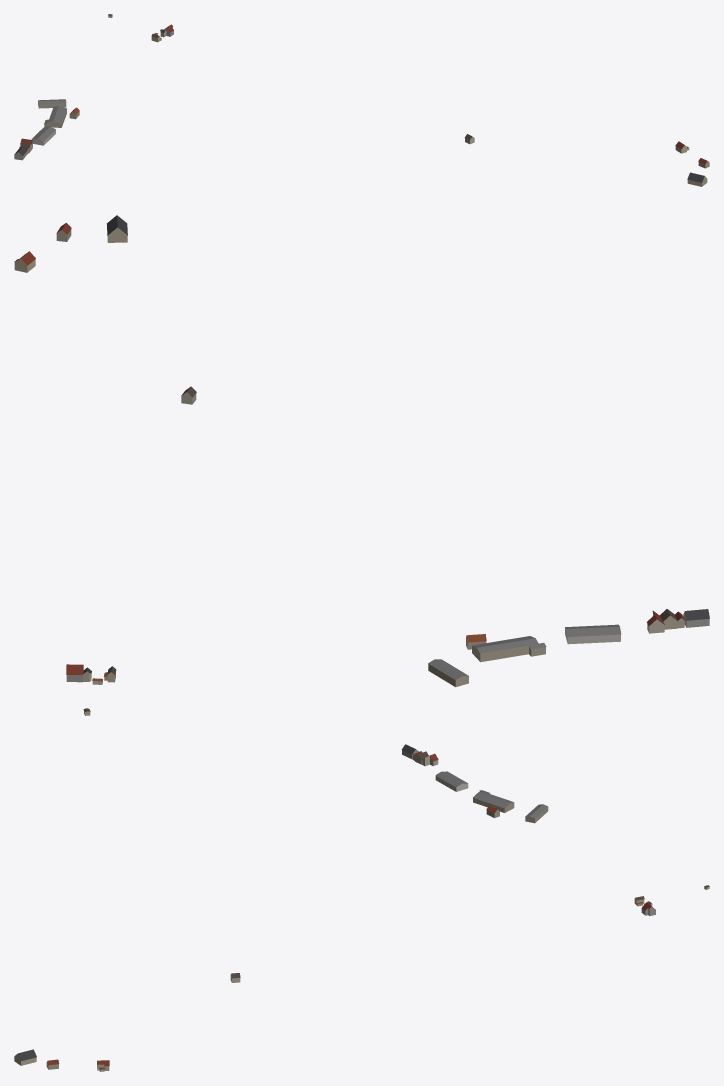
3 renders of one model, top to bottom at view 1: azimuth 30°, elevation 25°; view 2: azimuth 150°, elevation 25°; view 3: azimuth 270°, elevation 25°, orthographic. The views are drawn at different scales.
Parts seen in each view (by area): view 1: buildings; view 2: buildings; view 3: buildings.
Boxes of the visible parts, x1,y1,x2,y2 form: buildings: (14, 14, 709, 186); buildings: (14, 215, 709, 715); buildings: (14, 744, 709, 1071).
Size of the model in its own units: 782 by 45.16 by 777.
